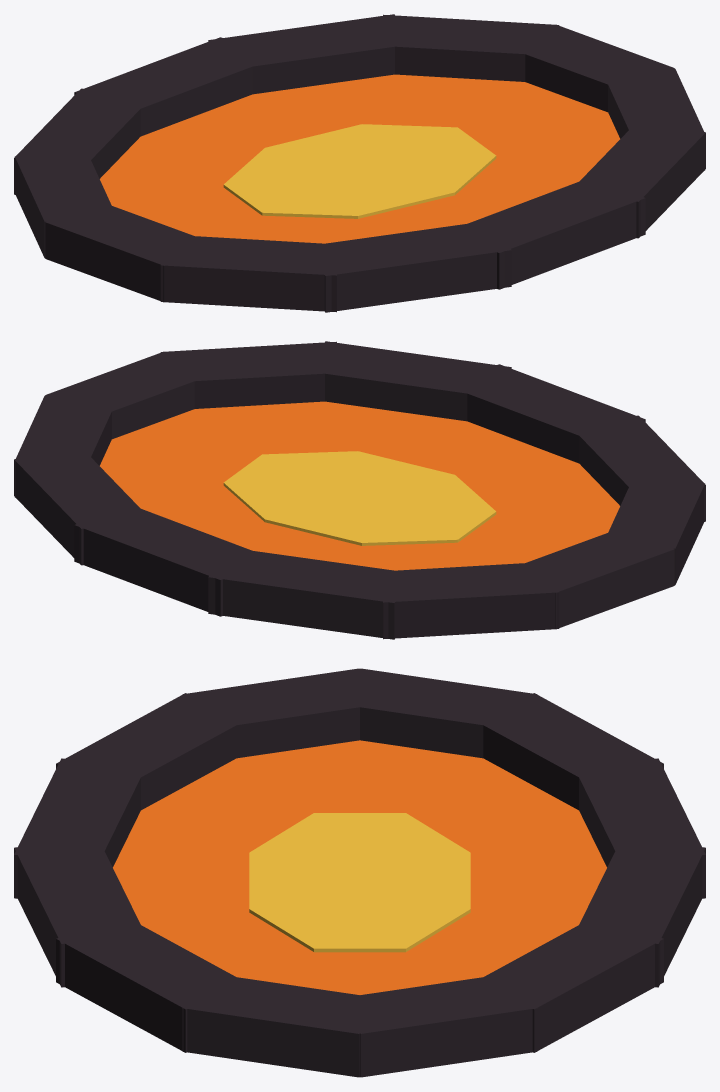
The model's file is env_r3_lava_pool.glb.
3 views of the same model, one above another, from view 1: azimuth 30°, elevation 25°; view 2: azimuth 150°, elevation 25°; view 3: azimuth 270°, elevation 25° (orthographic). The views are drawn at different scales.
Parts seen in each view (by area): view 1: env_r3_lava_pool; view 2: env_r3_lava_pool; view 3: env_r3_lava_pool.
Boxes of the visible parts, x1=… form: env_r3_lava_pool: x1=14, y1=14, x2=705, y2=312; env_r3_lava_pool: x1=14, y1=341, x2=705, y2=639; env_r3_lava_pool: x1=14, y1=668, x2=705, y2=1077.
Size of the model in its own units: 4.5 by 0.25 by 3.6.
1 material, 1 textured.
